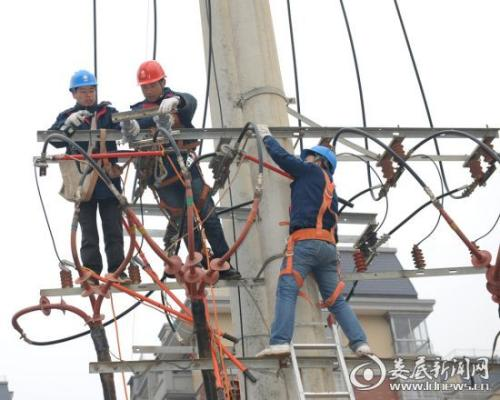boots: (255, 344, 291, 359), (76, 268, 98, 285), (105, 272, 132, 284), (217, 267, 241, 280), (355, 344, 373, 357)
gloves: (61, 110, 92, 136), (158, 96, 180, 114), (120, 119, 140, 138), (252, 123, 272, 141)
hard-hat: (306, 145, 337, 175), (136, 60, 165, 86), (69, 70, 97, 91)
person: (253, 123, 373, 361), (123, 58, 241, 281), (46, 69, 135, 288)
